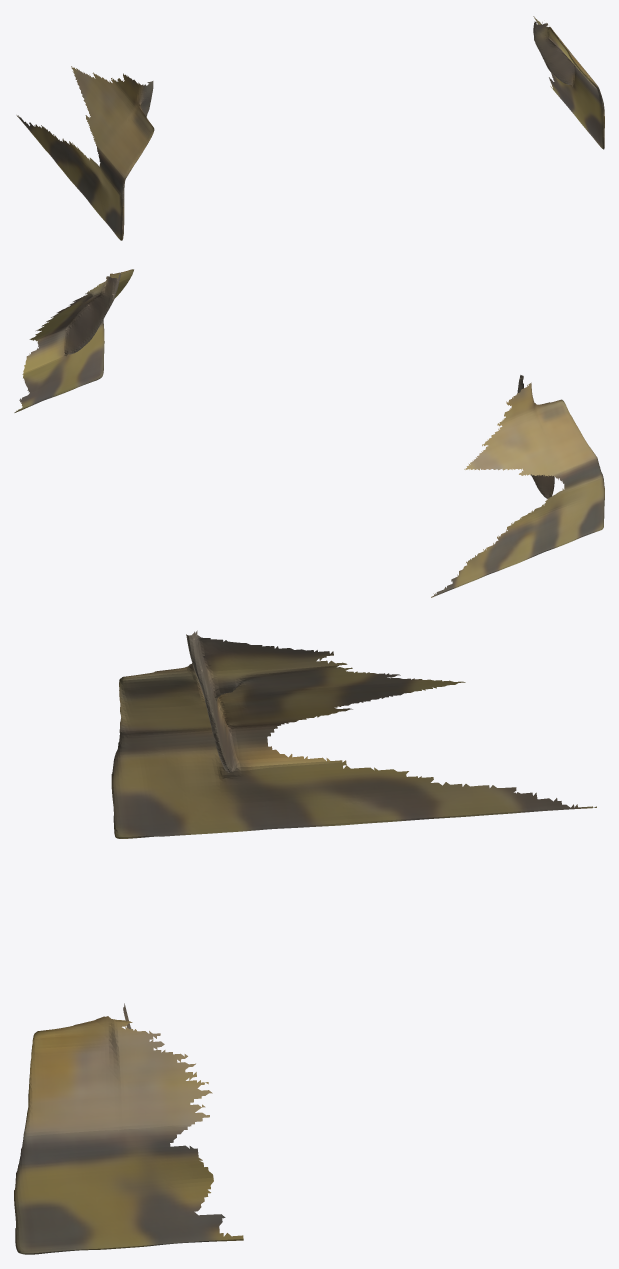
File: guard-center.glb
3 views of the same model, one above another, from view 1: azimuth 30°, elevation 25°; view 2: azimuth 150°, elevation 25°; view 3: azimuth 270°, elevation 25° (orthographic). The views are drawn at different scales.
Visible parts, largest first — view 1: geometry_0; view 2: geometry_0; view 3: geometry_0.
Boxes of the visible parts, x1,y1,x2,y2 form: geometry_0: (16,16,604,240); geometry_0: (14,269,604,597); geometry_0: (14,630,596,1254).
Bounding box in the file's own units: 3.11 × 0.8624 × 1.83.
